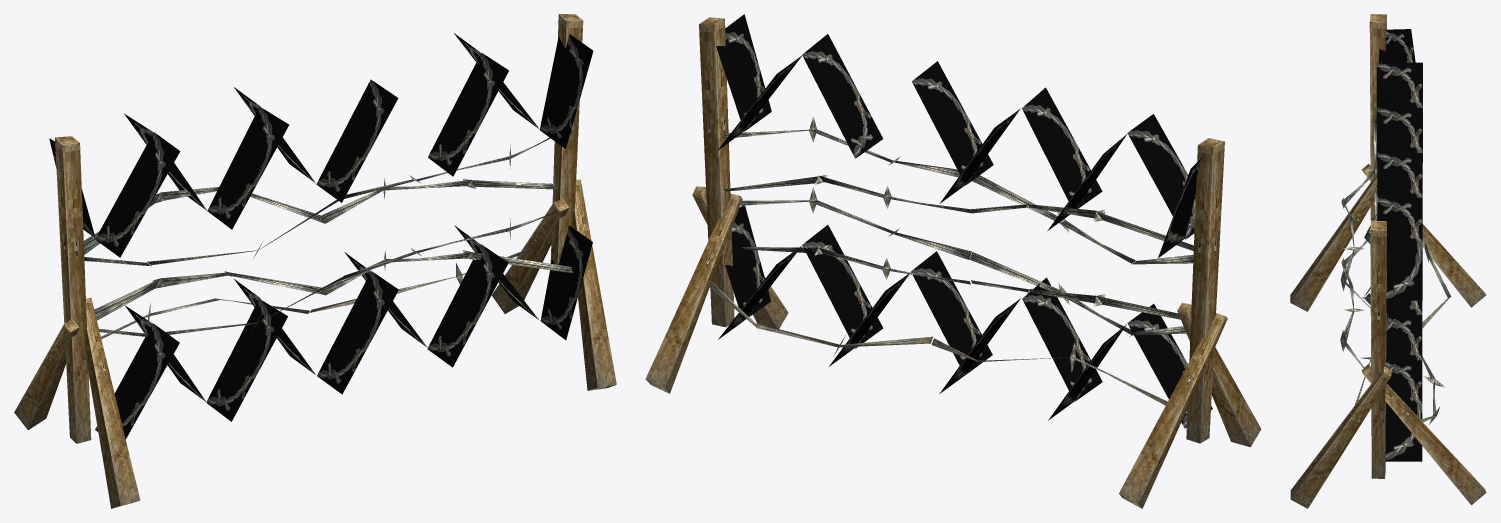
Rendered from C3SMPOWWIRE1.obj.
3 renders of one model, left to right at view 1: azimuth 30°, elevation 25°; view 2: azimuth 150°, elevation 25°; view 3: azimuth 270°, elevation 25°, orthographic. The views are drawn at different scales.
Visible parts, largest first — view 1: Node 4, Node 5, Node 6, Node 2, Node 3, Node 7; view 2: Node 4, Node 2, Node 5, Node 6, Node 3, Node 7; view 3: Node 2, Node 4, Node 7, Node 6, Node 5, Node 3.
Boxes of the visible parts, box(x1,y1,x2,y2) form: Node 4: box(49, 113, 325, 508); Node 5: box(14, 276, 343, 439); Node 6: box(309, 179, 572, 394); Node 2: box(415, 14, 593, 264); Node 3: box(147, 79, 471, 265); Node 7: box(491, 179, 616, 390); Node 4: box(971, 114, 1261, 447); Node 2: box(699, 14, 894, 327); Node 5: box(931, 252, 1227, 508); Node 6: box(708, 174, 992, 375); Node 3: box(819, 61, 1135, 263); Node 7: box(645, 186, 788, 393); Node 2: box(1340, 153, 1422, 478); Node 4: box(1290, 14, 1422, 311); Node 7: box(1290, 364, 1486, 508); Node 6: box(1340, 282, 1445, 461); Node 5: box(1341, 164, 1486, 328); Node 3: box(1341, 107, 1422, 250).
Size of the model in its own units: 7.43 by 4.59 by 2.84.
Materials: 13 (13 with a texture image).
